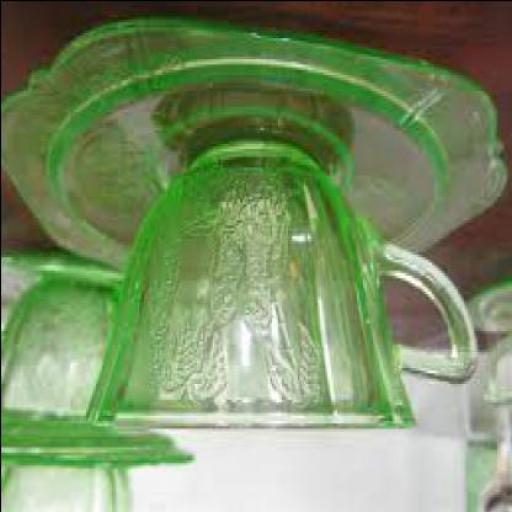glass: (2, 16, 510, 274), (87, 137, 478, 430), (2, 280, 194, 470), (468, 284, 510, 511), (2, 428, 190, 467), (2, 464, 138, 512), (2, 256, 111, 300)
